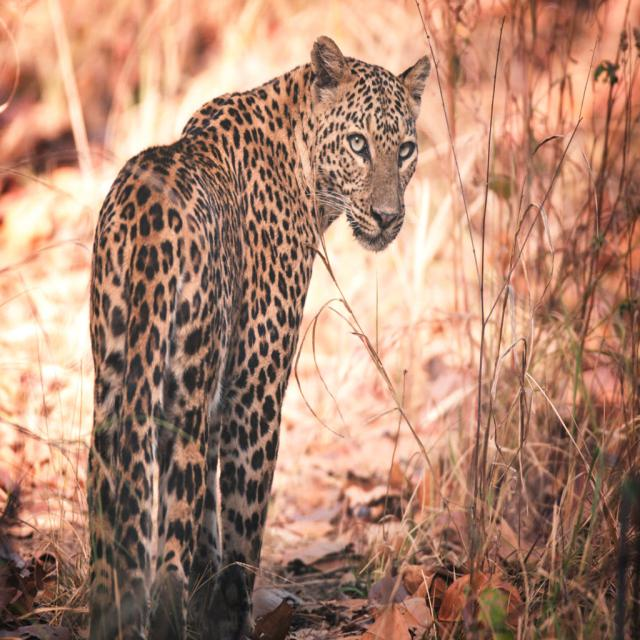Leopard: (71, 37, 433, 640)
